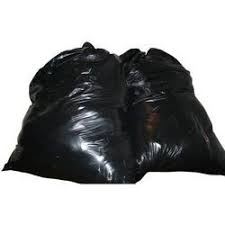Trash: (6, 48, 137, 187), (120, 45, 225, 190)
